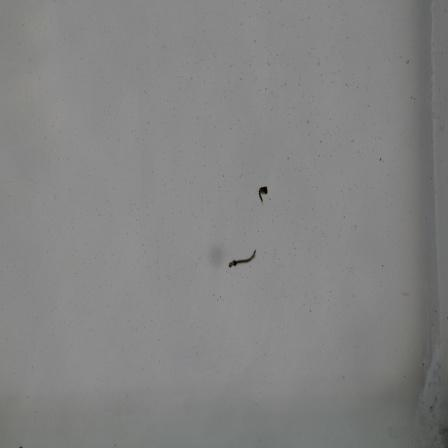Jentik-Nyamuk: (225, 244, 260, 270), (254, 180, 271, 205)
